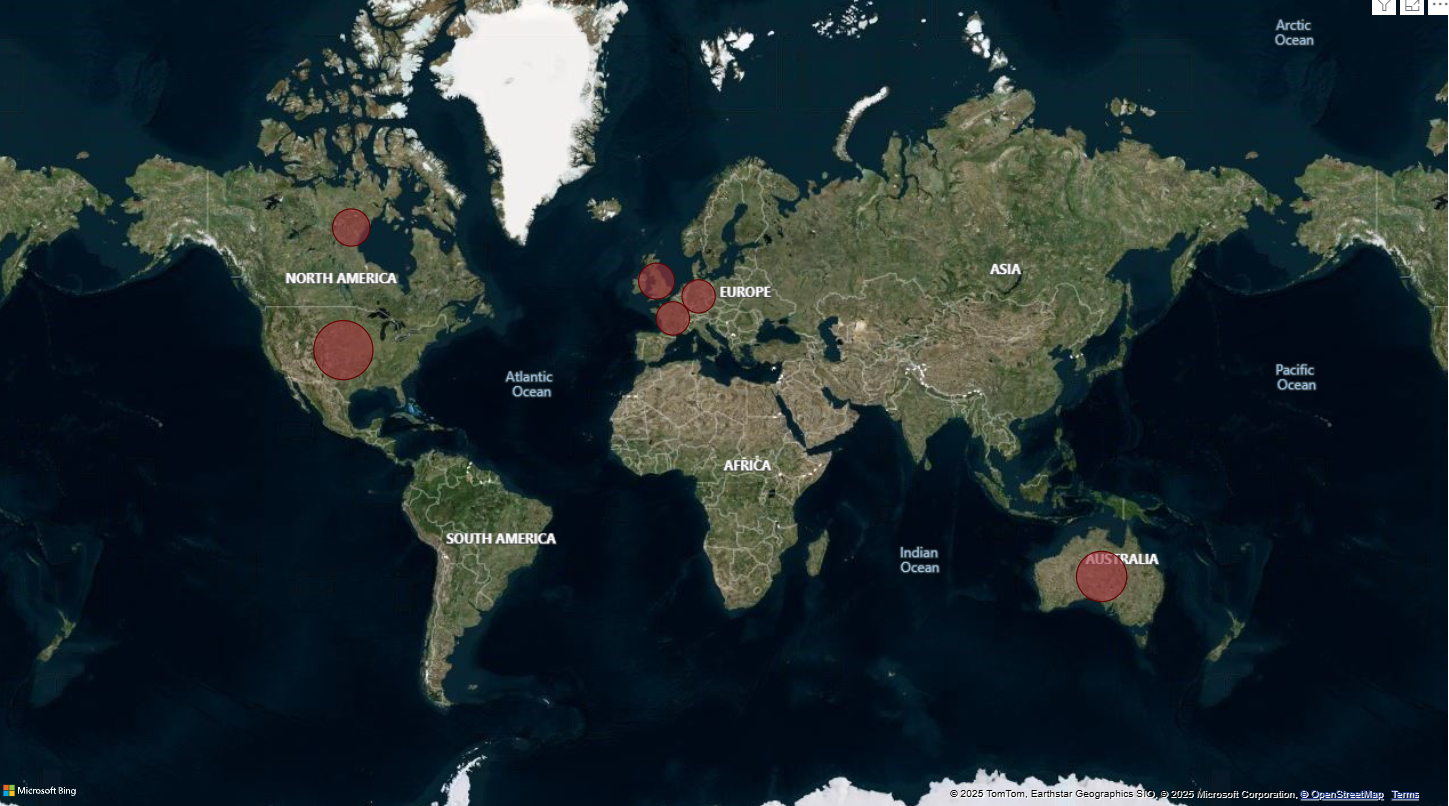

What the dashboard file says about the page in this screenshot:
{"tool":"powerbi","page":{"name":"Regionwise orders","canvas":[1280,720],"ordinal":2},"visuals":[{"type":"map","fields":{"Category":["Territories.Country"],"Size":["Measure Table.Total Orders"]},"box":[0,0,1279.7,720],"z":0}]}

Visuals, with their boxes in screenshot pixels (x1, y1, x2, y2), scaled from the page's 1280x720 canvas onto the 1449x806 screenshot:
map - Territories.Country x Measure Table.Total Orders: 0:0:1448:805
